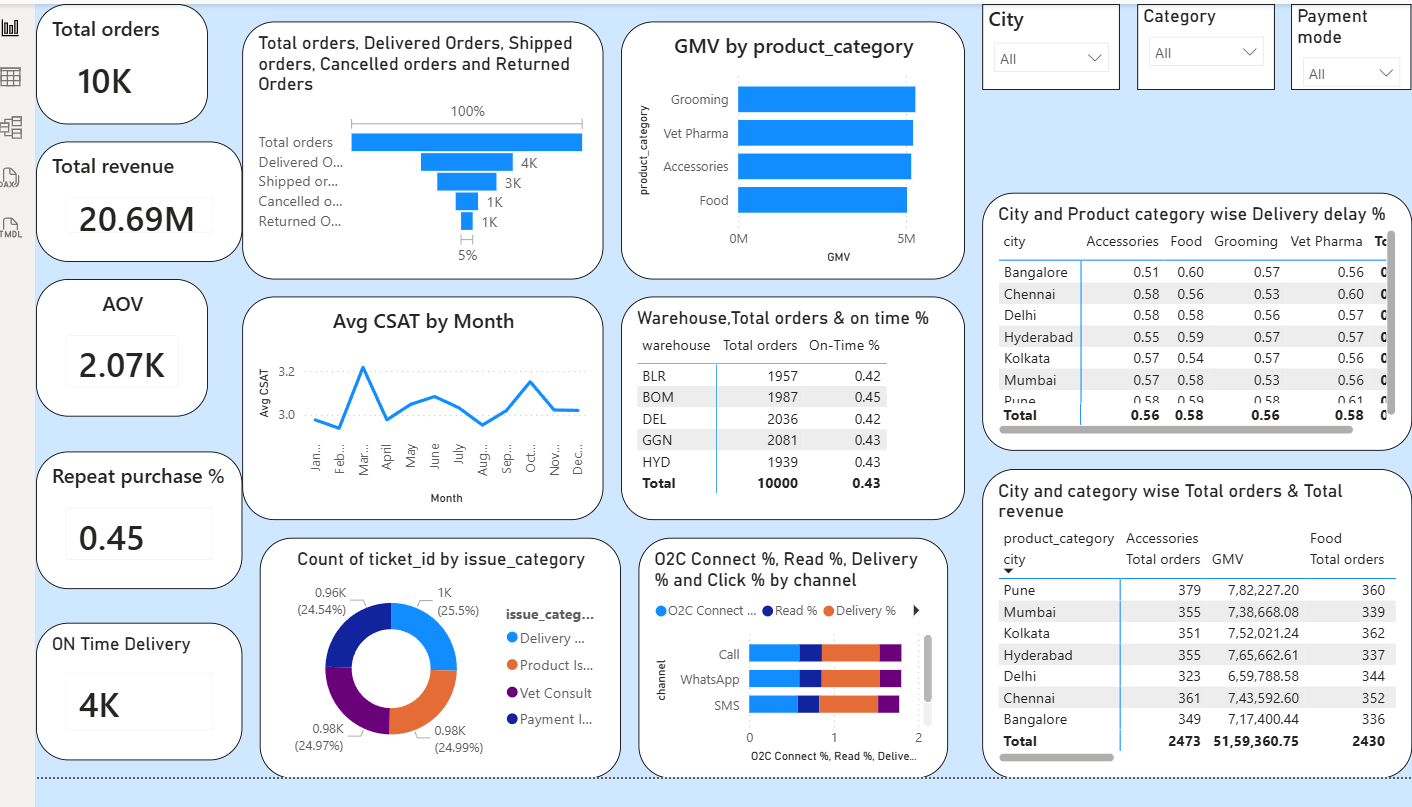

The page's visual inventory and layout, read from the dashboard file:
{"tool":"powerbi","page":{"name":"Page 1","canvas":[1280,720],"ordinal":0},"visuals":[{"type":"cardVisual","title":"AOV","fields":{"Data":["orders.AOV"]},"box":[0,256,160,128],"z":0},{"type":"cardVisual","title":"Total revenue","fields":{"Data":["orders.GMV"]},"box":[0,128,192,112],"z":2000},{"type":"cardVisual","title":"ON Time Delivery ","fields":{"Data":["orders.On-Time Delivery %"]},"box":[0,576,192,128],"z":3000},{"type":"cardVisual","title":"Repeat purchase %","fields":{"Data":["orders.Repeat Purchase %"]},"box":[0,416,192,128],"z":4000},{"type":"cardVisual","title":"Total orders","fields":{"Data":["orders.Total orders"]},"box":[0,0,160,112],"z":5000},{"type":"clusteredBarChart","fields":{"Category":["orders.product_category"],"Y":["orders.GMV"]},"box":[544,16,320,240],"z":5001},{"type":"funnel","fields":{"Y":["orders.Total orders","communication_logs.Delivered Orders","communication_logs.Shipped orders","communication_logs.Cancelled orders","communication_logs.Returned Orders"]},"box":[192,16,336,240],"z":5002},{"type":"barChart","fields":{"Category":["communication_logs.channel"],"Y":["communication_logs.O2C Connect %","communication_logs.Read %","communication_logs.Delivery %","communication_logs.Click %"]},"box":[560,496,288,224],"z":5003},{"type":"pivotTable","title":"City and category wise Total orders & Total revenue","fields":{"Rows":["orders.city"],"Columns":["orders.product_category"],"Values":["orders.Total orders","orders.GMV"]},"box":[880,432,400,288],"z":5004},{"type":"donutChart","fields":{"Category":["support_tickets.issue_category"],"Y":["CountNonNull(support_tickets.ticket_id)"]},"box":[208,496,336,224],"z":5005},{"type":"pivotTable","title":"Warehouse,Total orders & on time %","fields":{"Rows":["supply_chain.warehouse"],"Values":["orders.Total orders","communication_logs.On-Time %"]},"box":[544,272,320,208],"z":5006},{"type":"lineChart","fields":{"Y":["communication_logs.Avg CSAT"],"Category":["support_tickets.resolved_at.Variation.Date Hierarchy.Month"]},"box":[192,272,336,208],"z":5007},{"type":"pivotTable","title":"City and Product category wise Delivery delay %","fields":{"Rows":["orders.city"],"Columns":["orders.product_category"],"Values":["communication_logs.Delivery Delay %"]},"box":[880,176,400,240],"z":5008},{"type":"slicer","title":"City","fields":{"Values":["orders.city"]},"box":[880,0,128,80],"z":5009},{"type":"slicer","title":"Category","fields":{"Values":["orders.product_category"]},"box":[1024,0,128,80],"z":5010},{"type":"slicer","title":"Payment mode","fields":{"Values":["orders.payment_mode"]},"box":[1168,0,112,80],"z":5011}]}

Visuals, with their boxes on the page's 1280x720 design canvas (x1, y1, x2, y2). These are canvas units, not pixel positions in the 1412x807 screenshot, which may show the page scaled, cropped or inside an application window:
"AOV" cardVisual: left=0, top=256, right=160, bottom=384
"Total revenue" cardVisual: left=0, top=128, right=192, bottom=240
"ON Time Delivery " cardVisual: left=0, top=576, right=192, bottom=704
"Repeat purchase %" cardVisual: left=0, top=416, right=192, bottom=544
"Total orders" cardVisual: left=0, top=0, right=160, bottom=112
clusteredBarChart - orders.product_category x orders.GMV: left=544, top=16, right=864, bottom=256
funnel - orders.Total orders x communication_logs.Delivered Orders: left=192, top=16, right=528, bottom=256
barChart - communication_logs.channel x communication_logs.O2C Connect %: left=560, top=496, right=848, bottom=720
"City and category wise Total orders & Total revenue" pivotTable: left=880, top=432, right=1280, bottom=720
donutChart - support_tickets.issue_category x CountNonNull(support_tickets.ticket_id): left=208, top=496, right=544, bottom=720
"Warehouse,Total orders & on time %" pivotTable: left=544, top=272, right=864, bottom=480
lineChart - communication_logs.Avg CSAT x support_tickets.resolved_at.Variation.Date Hierarchy.Month: left=192, top=272, right=528, bottom=480
"City and Product category wise Delivery delay %" pivotTable: left=880, top=176, right=1280, bottom=416
"City" slicer: left=880, top=0, right=1008, bottom=80
"Category" slicer: left=1024, top=0, right=1152, bottom=80
"Payment mode" slicer: left=1168, top=0, right=1280, bottom=80
